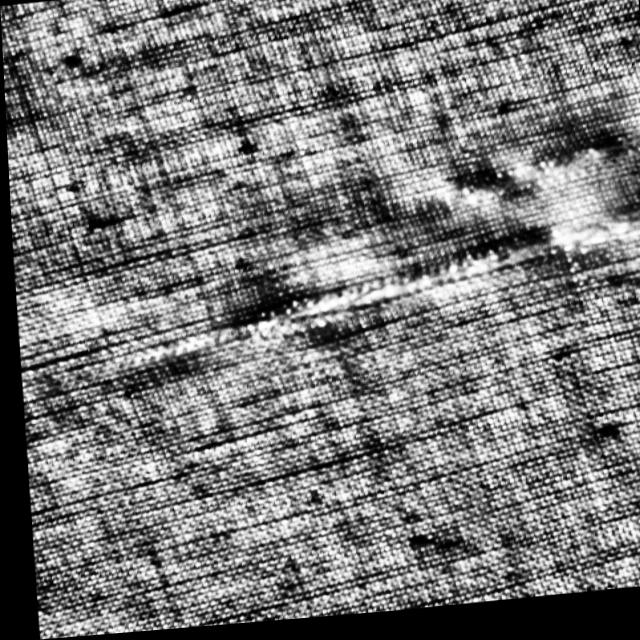Stitch: (219, 206, 640, 357), (400, 141, 627, 234)
